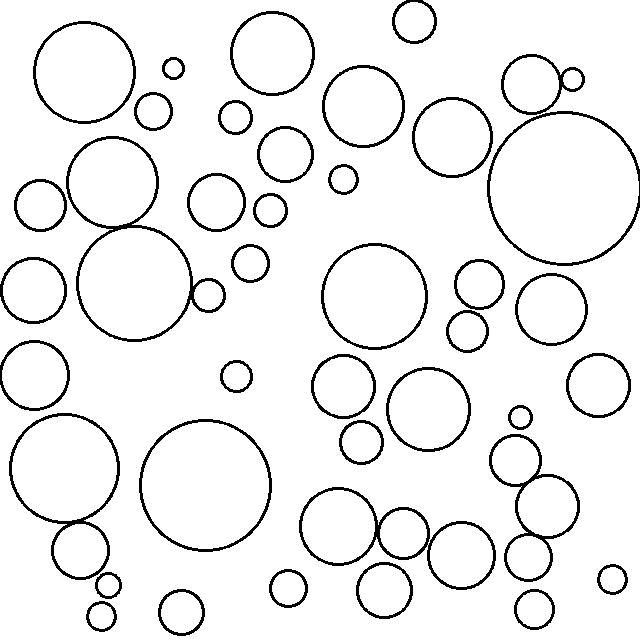circle: (486, 109, 639, 267), (138, 414, 277, 556), (73, 223, 194, 345), (8, 411, 122, 526), (317, 237, 430, 353), (28, 17, 139, 128), (64, 132, 162, 230), (384, 362, 474, 456), (226, 7, 318, 98), (319, 62, 408, 151), (410, 93, 495, 180), (296, 483, 380, 570), (513, 272, 592, 349), (425, 517, 499, 593), (562, 348, 635, 421), (2, 338, 74, 412), (512, 471, 582, 541), (2, 255, 70, 327), (311, 353, 380, 421), (498, 51, 566, 119), (184, 168, 251, 234), (49, 515, 112, 582), (255, 120, 317, 188), (354, 557, 416, 622), (375, 502, 432, 564), (452, 254, 509, 312), (488, 431, 545, 489), (12, 177, 71, 233), (502, 531, 556, 585), (156, 585, 208, 639), (337, 418, 388, 468), (388, 0, 442, 47), (444, 307, 492, 356), (229, 239, 274, 287), (132, 88, 178, 134), (512, 588, 559, 633), (267, 567, 311, 610), (187, 276, 230, 316), (215, 98, 256, 139), (250, 190, 290, 230), (218, 356, 256, 396), (593, 561, 631, 599), (83, 596, 120, 634), (327, 162, 362, 198), (93, 569, 125, 601), (505, 401, 536, 432), (159, 52, 188, 83), (557, 64, 588, 93)
